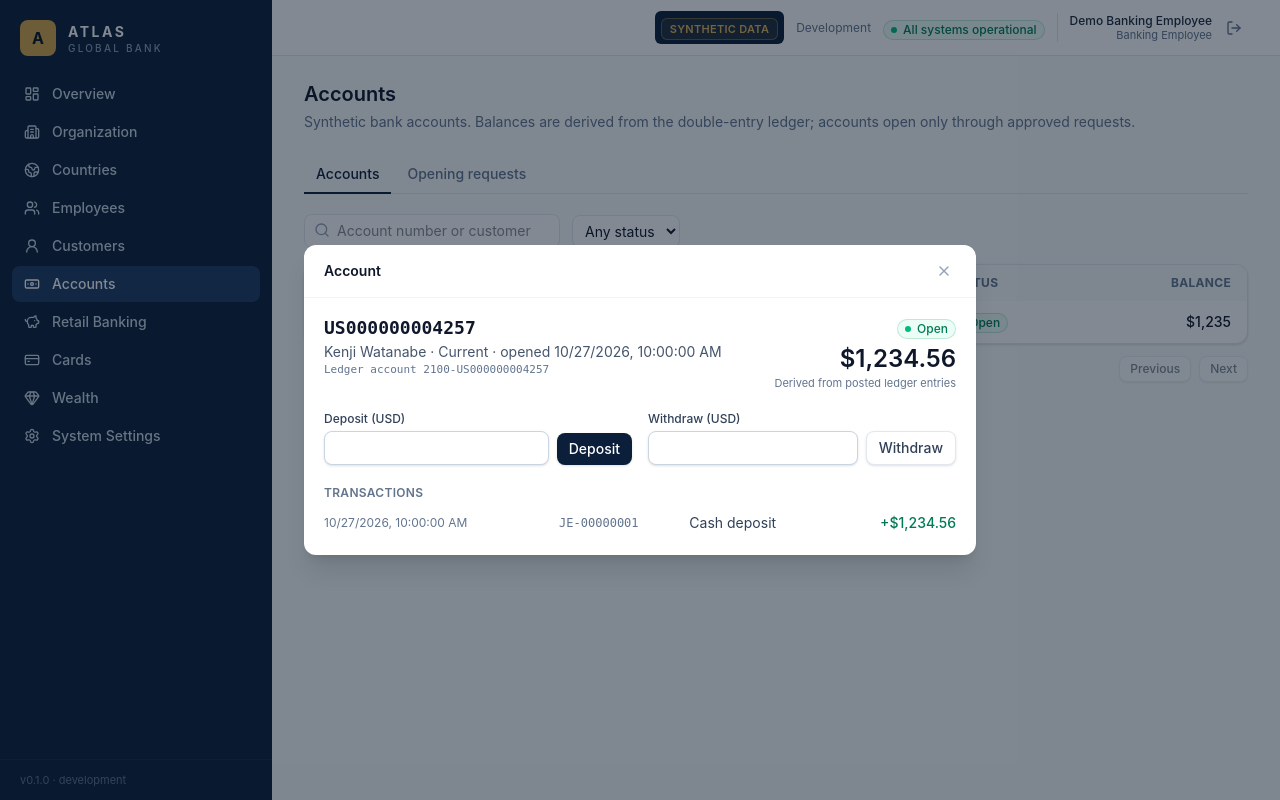
it: Accounts page › reuses the idempotency key when a failed deposit is retried
This screenshot has width=1280, height=800.
Type "25.50" into the number field labelled "Deposit (USD)".
click(436, 448); type("25.50")  # box [324,431,549,465]
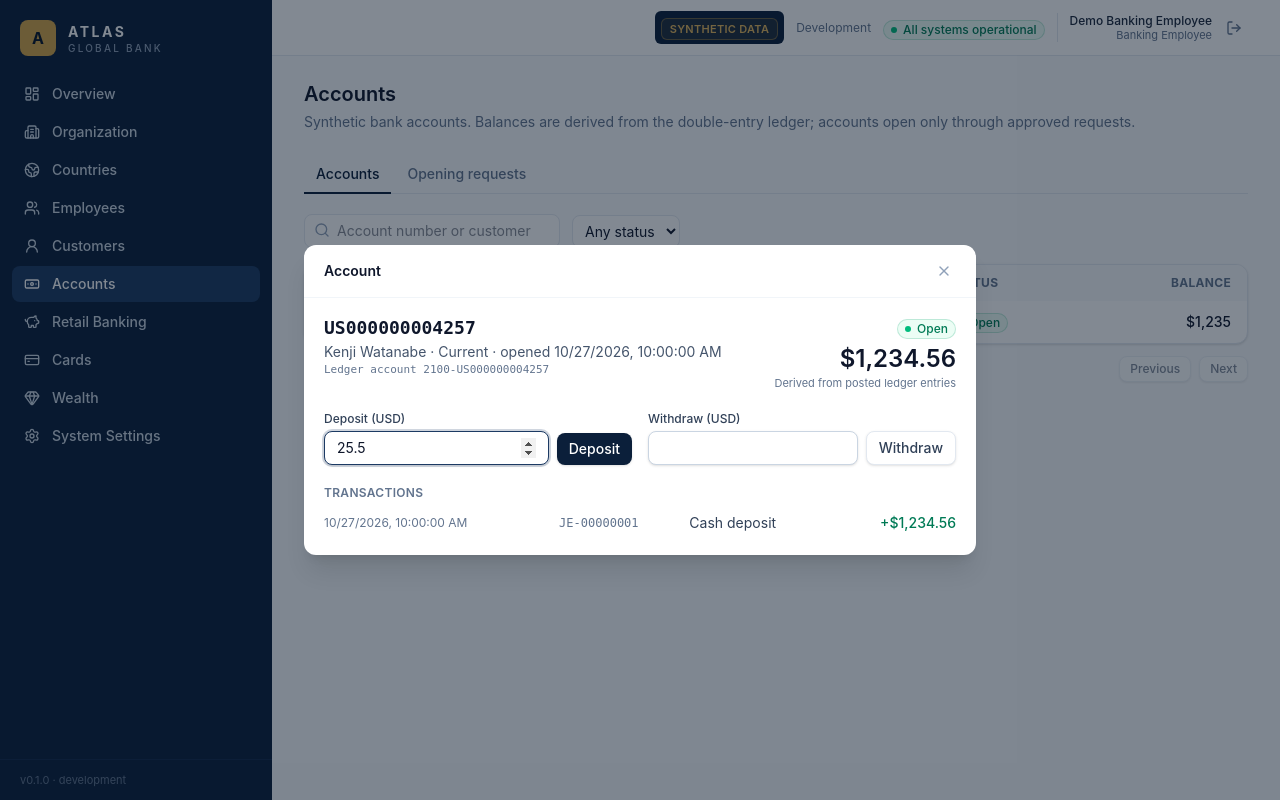
Click the button "Deposit".
click(594, 449)  # box [557,433,632,465]
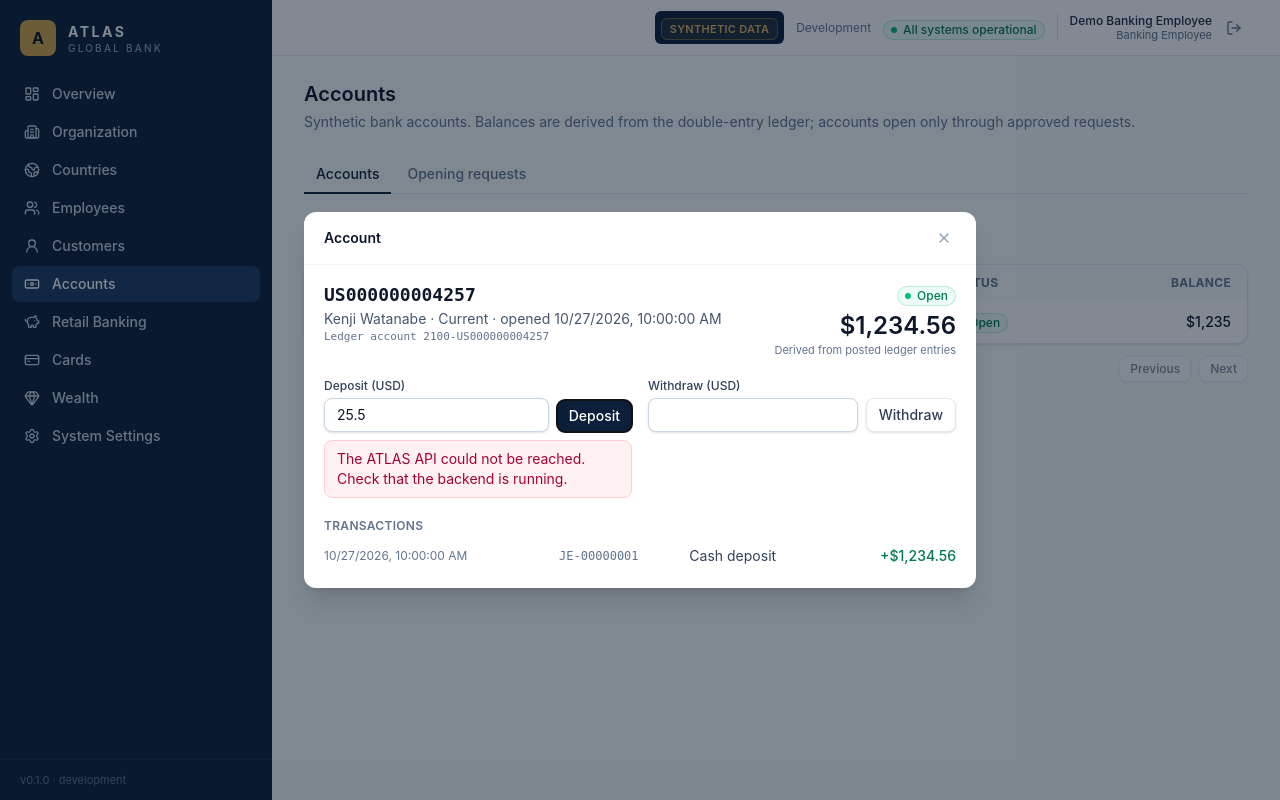
Result: the message "The ATLAS API could not be reached. Check that the backend is running." is shown at [324,440,632,498]
Click the button "Deposit".
click(594, 416)  # box [557,400,632,432]
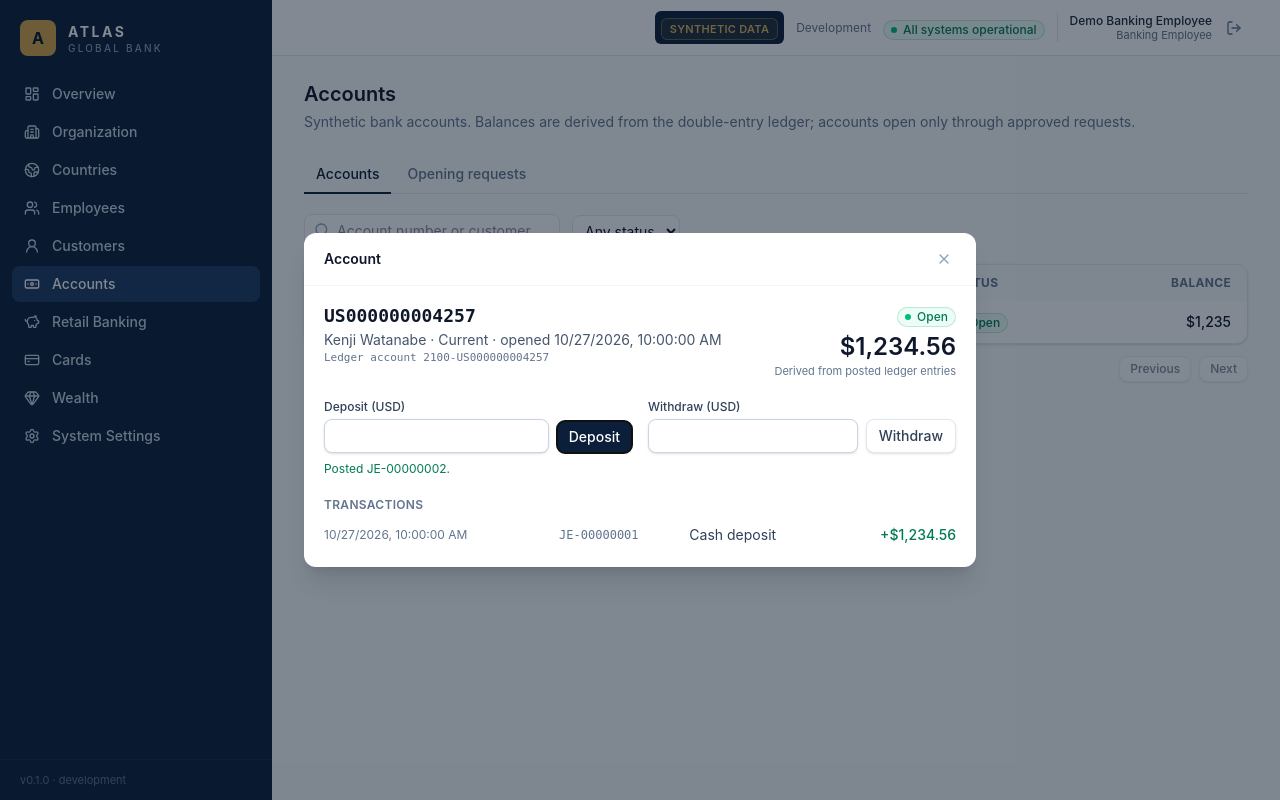
Result: the text "Posted JE-00000002." is shown at [324,461,450,476]
